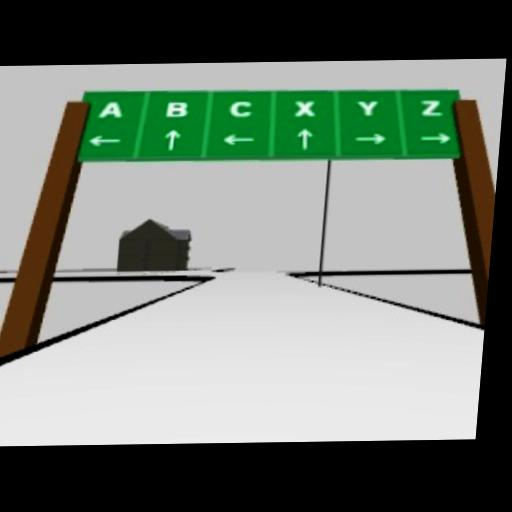A: (96, 100, 124, 117)
B: (164, 101, 188, 116)
C: (227, 99, 253, 116)
Left: (220, 131, 255, 144), (88, 133, 122, 146)
Right: (353, 131, 387, 144), (419, 130, 451, 143)
Straight: (163, 127, 182, 149), (295, 125, 314, 147)
X: (293, 98, 317, 115)
Y: (354, 99, 377, 114)
Z: (418, 96, 444, 115)
